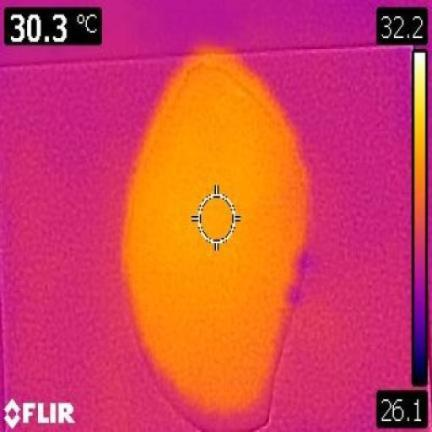mango: (122, 53, 307, 428)
